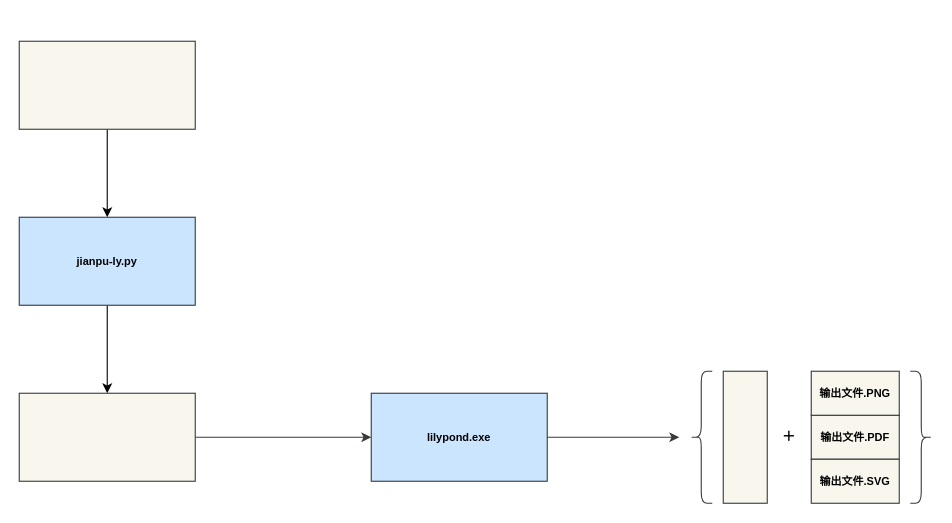
The diagram is 952 pixels wide and 523 high, and some of its shapes have lost their labels. The shapes that lost their labels are listed below. From the top down, each one's centre as x and y in pixels, then its label:
[106,84]: 简谱文件.txt 符合jianpu-ly语法规则的文本
[106,436]: 输入文件.txt 符合lilypond语法规则的文本
[744,436]: MIDI
